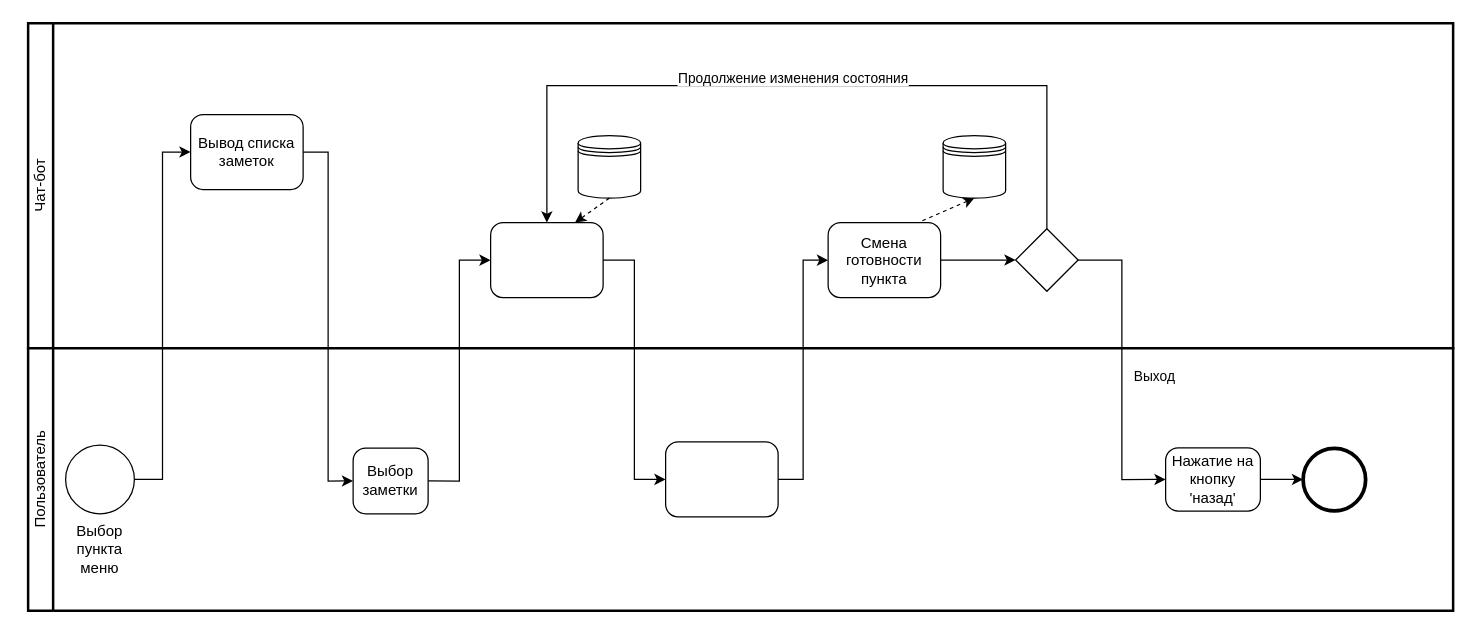
This 1475x633 diagram has some shape labels left out. Each missing label, with the centre of its shape:
Выбор пункта: point 721,479
Вывод списка пунктов заметки: point 546,259
